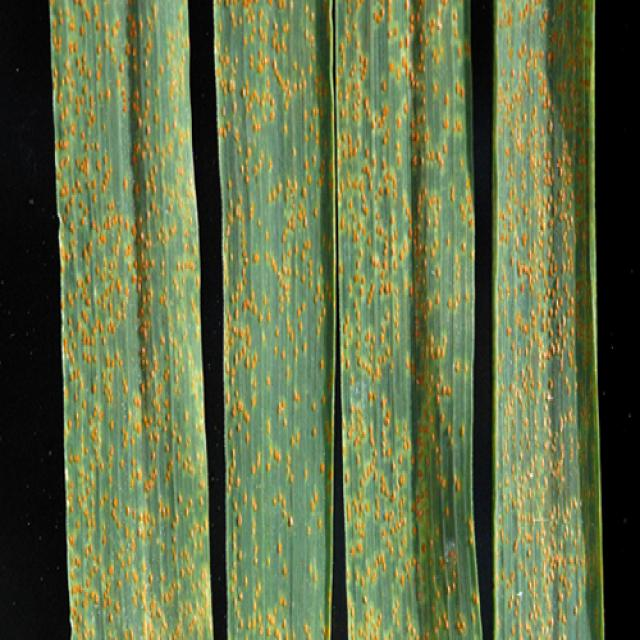leaf rust: (49, 2, 212, 640), (335, 2, 484, 638), (215, 2, 333, 640), (492, 2, 602, 640)
